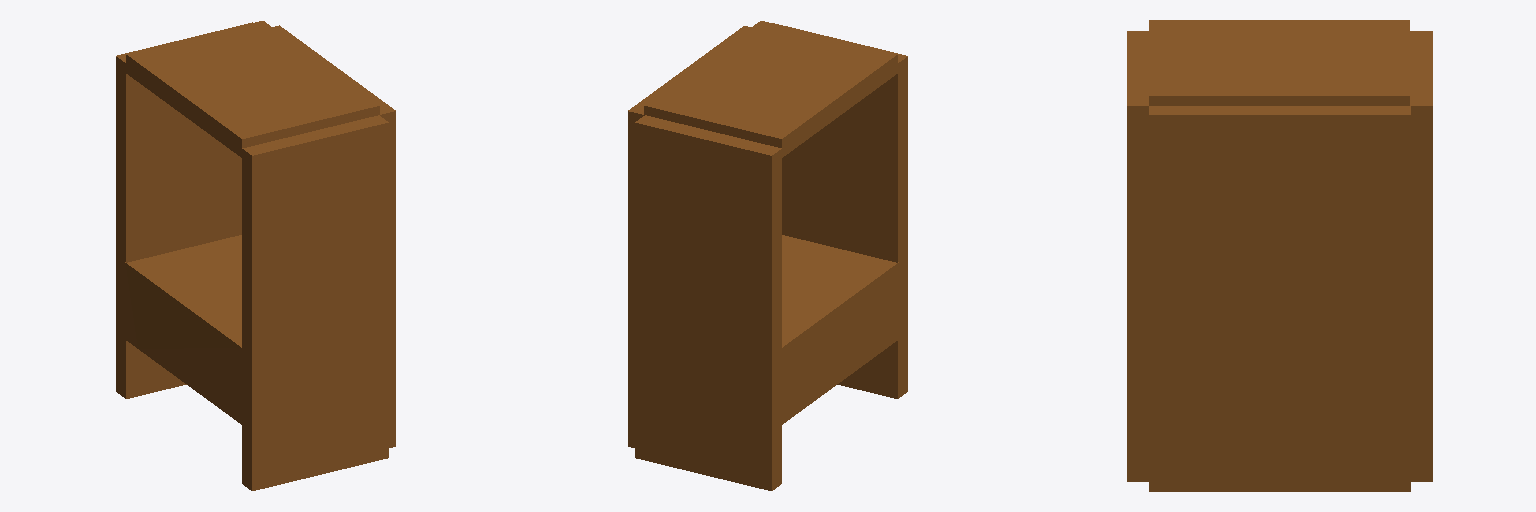
URDF robot description (dummy):
<?xml version="1.0"?>
<robot name="dummy">
  <link name="bottom_wall">
    <visual>
      <origin xyz="0.0 0.0 0.08040999933226751" rpy="0 0 0"/>
      <geometry>
        <mesh filename="bottom_wall.obj" scale="1 1 1"/>
      </geometry>
      <material name="brown">
        <color rgba="0.6 0.4 0.2 1.0"/>
      </material>
    </visual>
    <collision>
      <origin xyz="0.0 0.0 0.08040999933226751" rpy="0 0 0"/>
      <geometry>
        <mesh filename="bottom_wall.obj" scale="1 1 1"/>
      </geometry>
    </collision>
  </link>

  <link name="left_wall">
    <visual>
      <origin xyz="0.0 -0.15471835935100425 0.0" rpy="0 0 0"/>
      <geometry>
        <mesh filename="vertical_wall.obj" scale="1 1 1"/>
      </geometry>
      <material name="brown">
        <color rgba="0.6 0.4 0.2 1.0"/>
      </material>
    </visual>
    <collision>
      <origin xyz="0.0 -0.15471835935100425 0.0" rpy="0 0 0"/>
      <geometry>
        <mesh filename="vertical_wall.obj" scale="1 1 1"/>
      </geometry>
    </collision>
  </link>

  <link name="right_wall">
    <visual>
      <origin xyz="0.0 0.15471835935100425 0.0" rpy="0 0 0"/>
      <geometry>
        <mesh filename="vertical_wall.obj" scale="1 1 1"/>
      </geometry>
      <material name="brown">
        <color rgba="0.6 0.4 0.2 1.0"/>
      </material>
    </visual>
    <collision>
      <origin xyz="0.0 0.15471835935100425 0.0" rpy="0 0 0"/>
      <geometry>
        <mesh filename="vertical_wall.obj" scale="1 1 1"/>
      </geometry>
    </collision>
  </link>

  <link name="back_wall">
    <visual>
      <origin xyz="0.10884685555170642 0.0 0.0" rpy="0 0 0"/>
      <geometry>
        <mesh filename="back_wall.obj" scale="1 1 1"/>
      </geometry>
      <material name="brown">
        <color rgba="0.6 0.4 0.2 1.0"/>
      </material>
    </visual>
    <collision>
      <origin xyz="0.10884685555170642 0.0 0.0" rpy="0 0 0"/>
      <geometry>
        <mesh filename="back_wall.obj" scale="1 1 1"/>
      </geometry>
    </collision>
  </link>

  <link name="top_wall">
    <visual>
      <origin xyz="0.0 0.0 0.44144839389612484" rpy="0 0 0"/>
      <geometry>
        <mesh filename="top_wall.obj" scale="1 1 1"/>
      </geometry>
      <material name="brown">
        <color rgba="0.6 0.4 0.2 1.0"/>
      </material>
    </visual>
    <collision>
      <origin xyz="0.0 0.0 0.44144839389612484" rpy="0 0 0"/>
      <geometry>
        <mesh filename="top_wall.obj" scale="1 1 1"/>
      </geometry>
    </collision>
  </link>

  <joint name="left_wall_joint" type="fixed">
    <origin xyz="0 0 0" rpy="0 0 0"/>
    <parent link="bottom_wall"/>
    <child link="left_wall"/>
  </joint>

  <joint name="right_wall_joint" type="fixed">
    <origin xyz="0 0 0" rpy="0 0 0"/>
    <parent link="bottom_wall"/>
    <child link="right_wall"/>
  </joint>

  <joint name="back_wall_joint" type="fixed">
    <origin xyz="0 0 0" rpy="0 0 0"/>
    <parent link="bottom_wall"/>
    <child link="back_wall"/>
  </joint>

  <joint name="top_wall_joint" type="fixed">
    <origin xyz="0 0 0" rpy="0 0 0"/>
    <parent link="bottom_wall"/>
    <child link="top_wall"/>
  </joint>

</robot>

--- Render facts (derived) ---
The picture shows the robot from 3 angles, left to right: view 1: azimuth 30°, elevation 25°; view 2: azimuth 150°, elevation 25°; view 3: azimuth 270°, elevation 25°; orthographic projection.
Robot: dummy — 5 links, 4 joints (4 fixed); root link bottom_wall; default pose: every joint at zero.
Visible links, largest first — view 1: left_wall, right_wall, top_wall, bottom_wall, back_wall; view 2: right_wall, left_wall, top_wall, bottom_wall, back_wall; view 3: back_wall, top_wall, right_wall, left_wall.
Link boxes in pixels (left/top/right/bottom): left_wall: left=242, top=115, right=388, bottom=490; right_wall: left=116, top=22, right=252, bottom=398; top_wall: left=126, top=21, right=379, bottom=157; bottom_wall: left=125, top=235, right=241, bottom=424; back_wall: left=273, top=25, right=395, bottom=447; right_wall: left=635, top=115, right=781, bottom=490; left_wall: left=773, top=23, right=907, bottom=398; top_wall: left=644, top=21, right=897, bottom=157; bottom_wall: left=782, top=235, right=898, bottom=424; back_wall: left=628, top=26, right=750, bottom=447; back_wall: left=1149, top=105, right=1410, bottom=491; top_wall: left=1149, top=20, right=1409, bottom=105; right_wall: left=1410, top=31, right=1432, bottom=481; left_wall: left=1127, top=31, right=1148, bottom=481.
Size in the robot's own frame: 0.2188 by 0.3355 by 0.4675 metres.
5 mesh visuals loaded from 4 distinct referenced files (4 OBJ).
